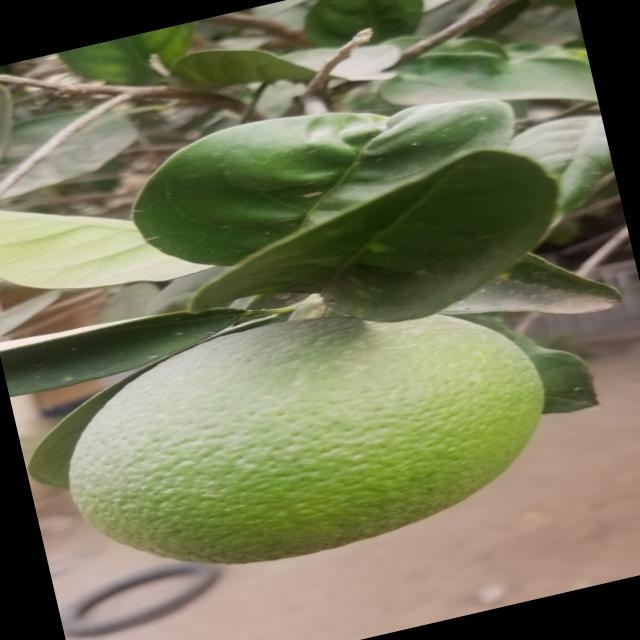agrume: (27, 260, 570, 604)
